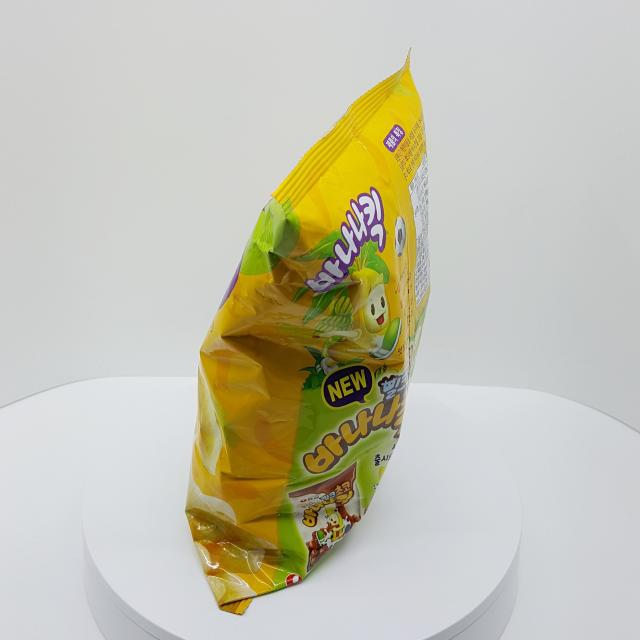-75G: (186, 48, 432, 616)
